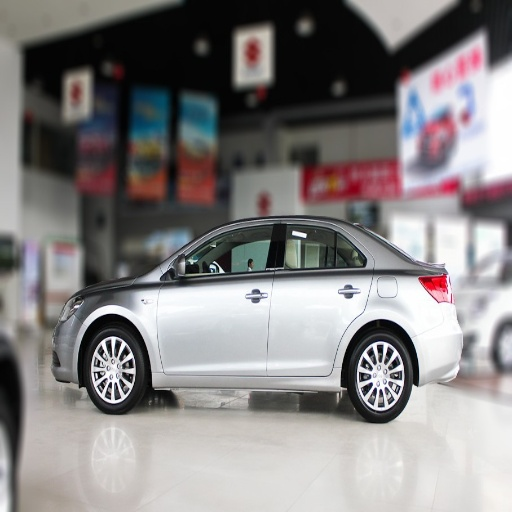back_bumper: (412, 322, 461, 382)
back_glass: (280, 13, 374, 97)
back_left_door: (267, 220, 371, 374)
front_left_door: (157, 221, 279, 373)
